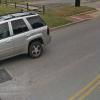Car: (1, 5, 69, 61)
